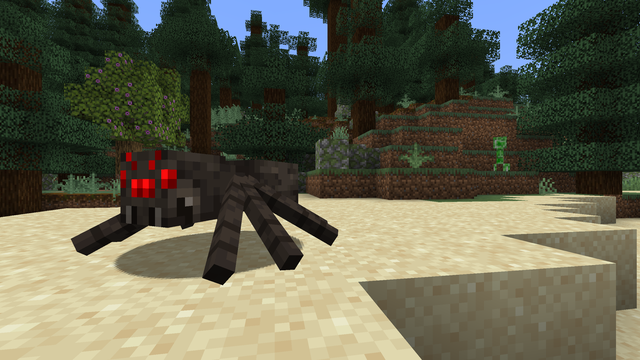araignees: (74, 133, 303, 280)
creepers: (489, 134, 510, 162)
